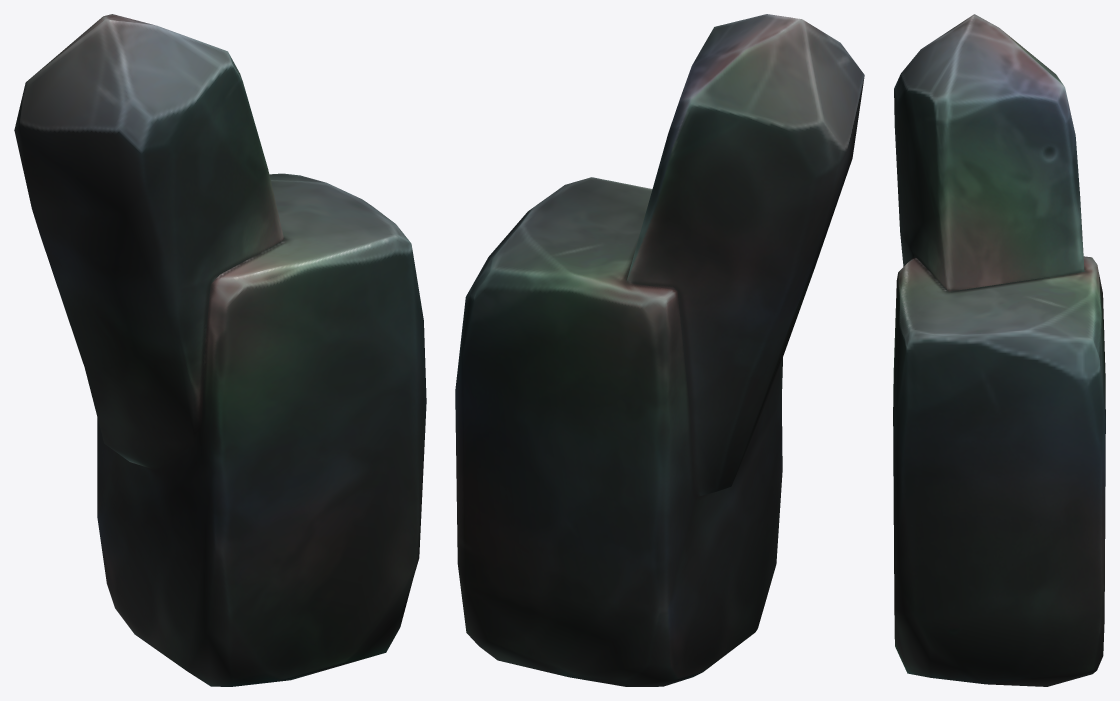
The model's file is SM_Gem_BlackQuartz_006.fbx.
The picture shows the model from 3 angles, left to right: view 1: azimuth 30°, elevation 25°; view 2: azimuth 150°, elevation 25°; view 3: azimuth 270°, elevation 25°; orthographic projection. The views are drawn at different scales.
Parts seen in each view (by area): view 1: SM_Gem_BlackQuartz_006; view 2: SM_Gem_BlackQuartz_006; view 3: SM_Gem_BlackQuartz_006.
Part boxes in pixels (box(x1,y1,x2,y2)): SM_Gem_BlackQuartz_006: box(14, 14, 426, 686); SM_Gem_BlackQuartz_006: box(455, 14, 864, 686); SM_Gem_BlackQuartz_006: box(893, 14, 1105, 686).
Size of the model in its own units: 36.61 by 67.16 by 23.08.
